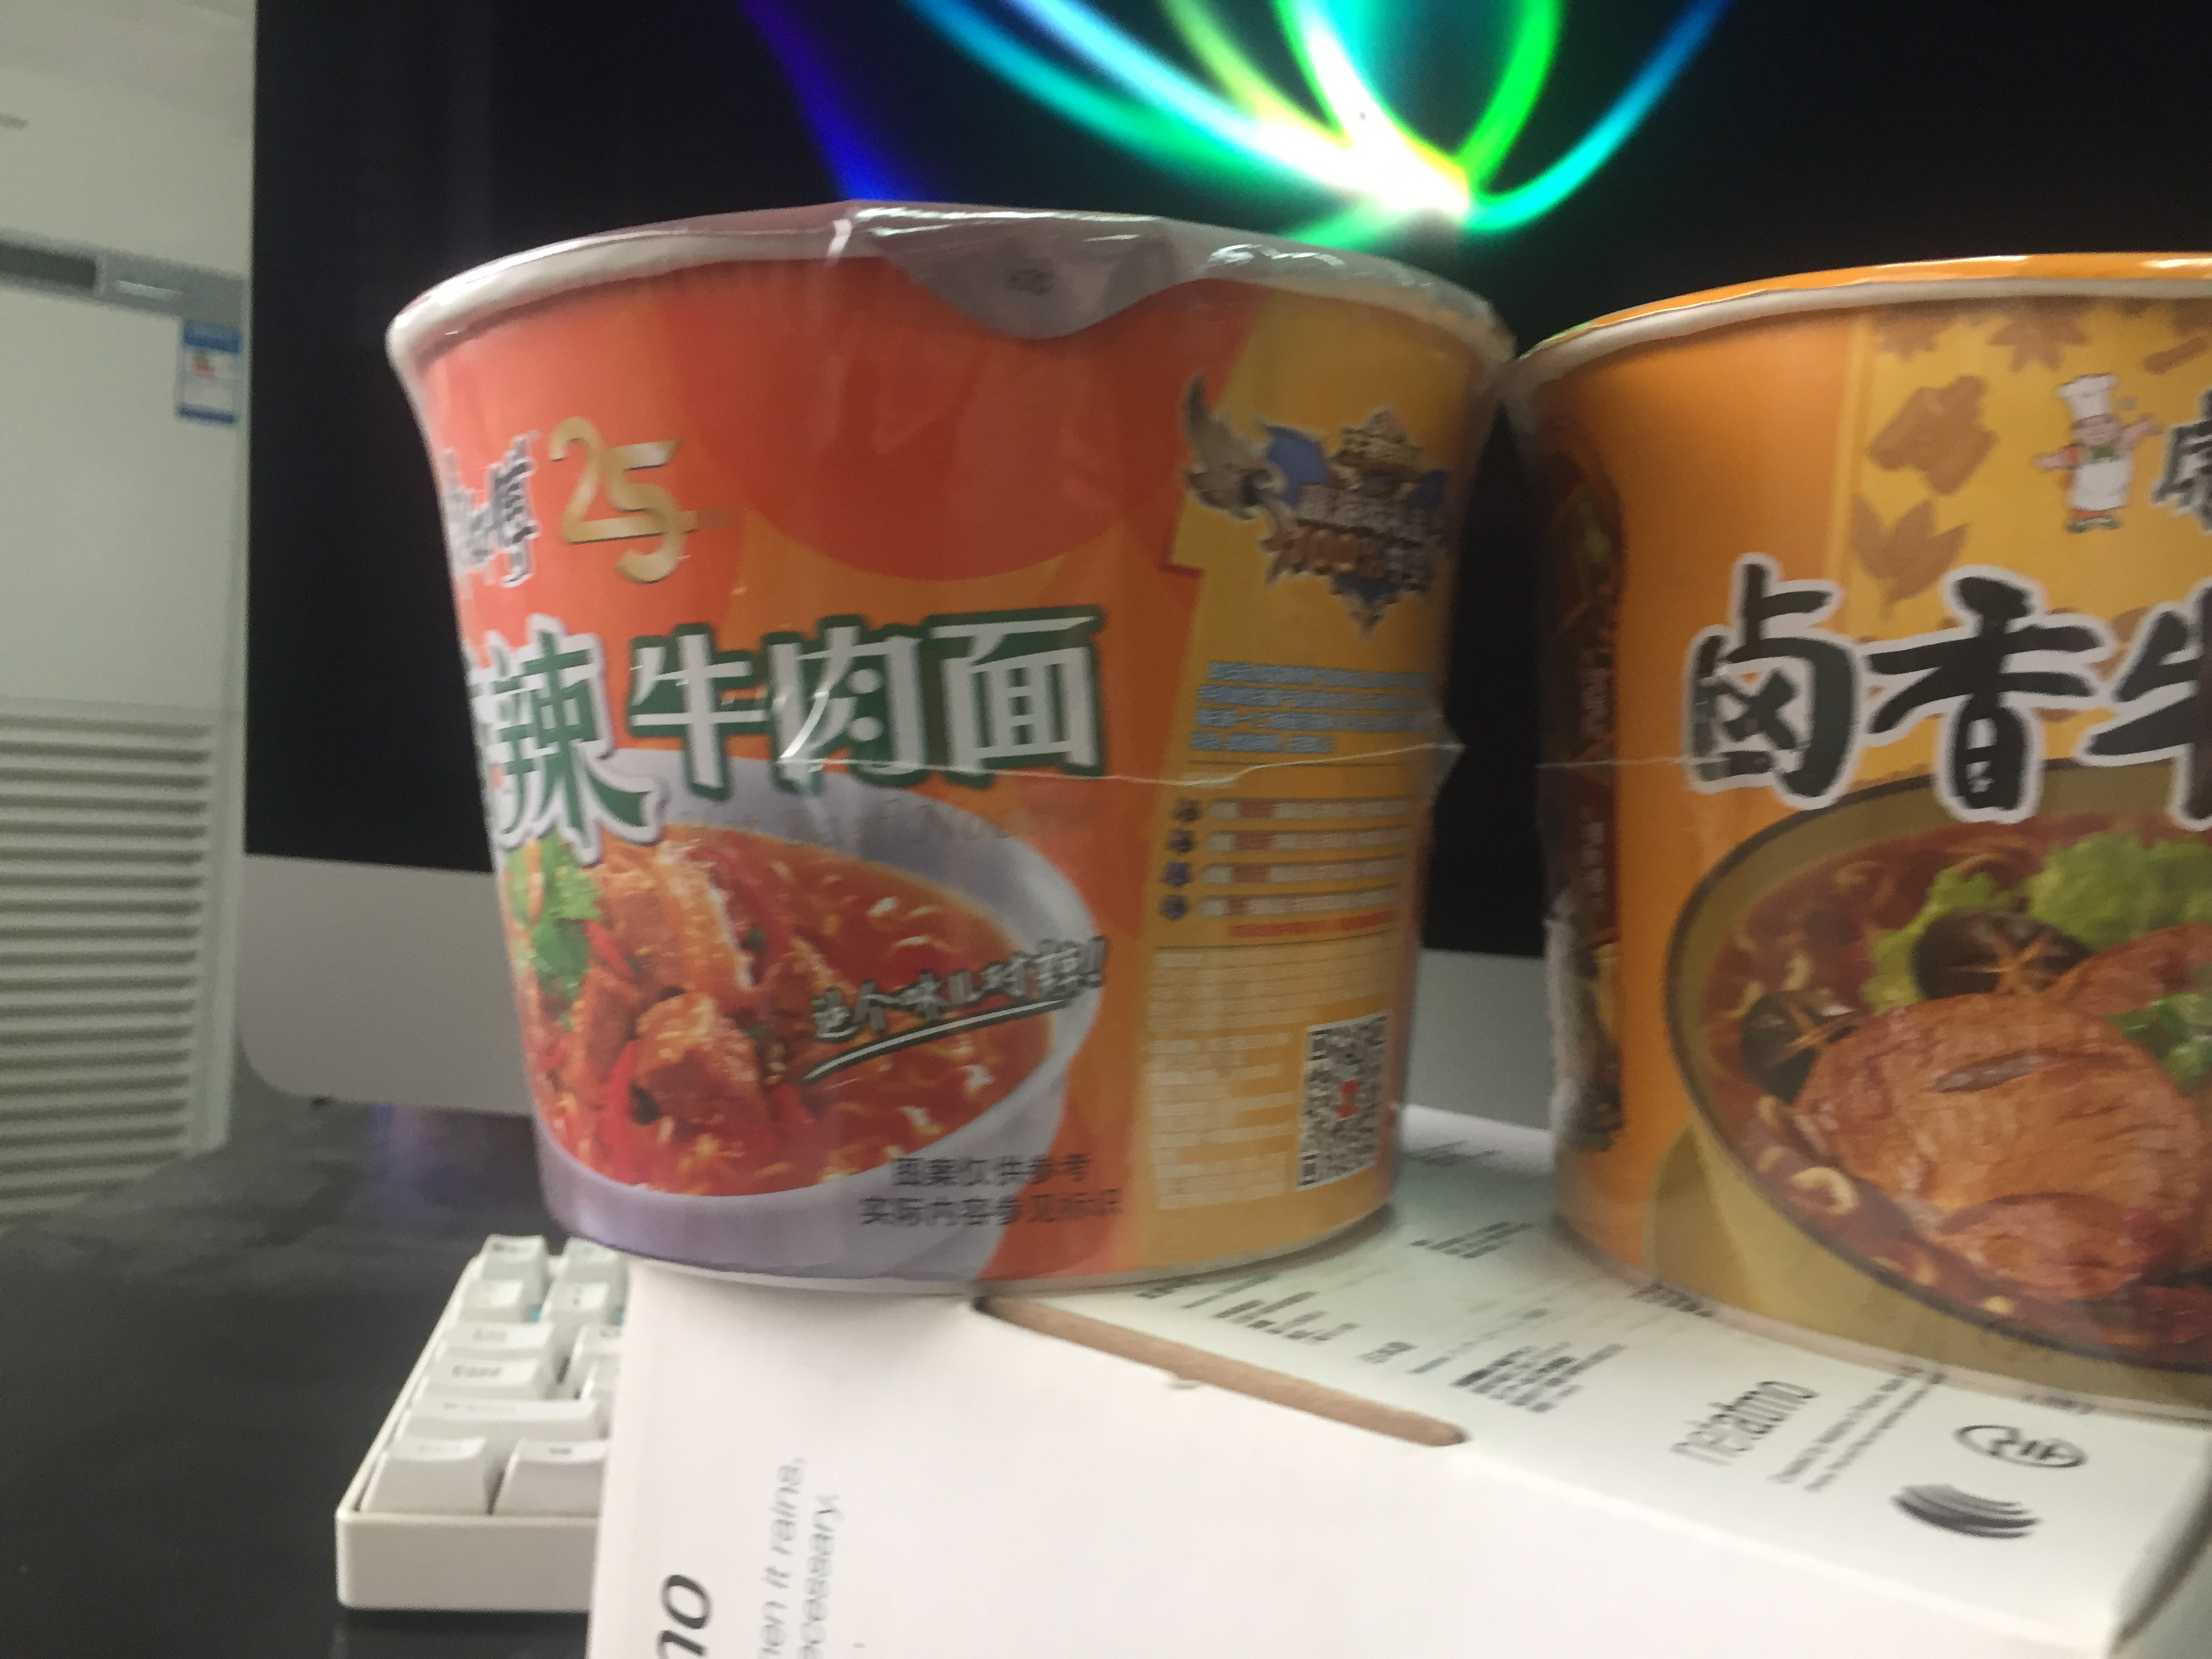luxiang: (1500, 251, 2212, 1429)
xiangla: (383, 204, 1515, 1302)
